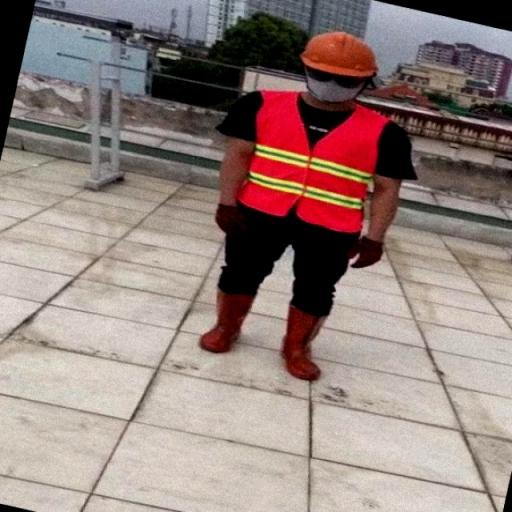Person: (173, 0, 402, 394)
boots: (174, 286, 260, 359), (274, 300, 344, 384)
gloves: (344, 236, 389, 273), (209, 202, 247, 236)
goggles: (295, 62, 378, 90)
helmet: (296, 26, 379, 80)
vest: (220, 80, 408, 244)
